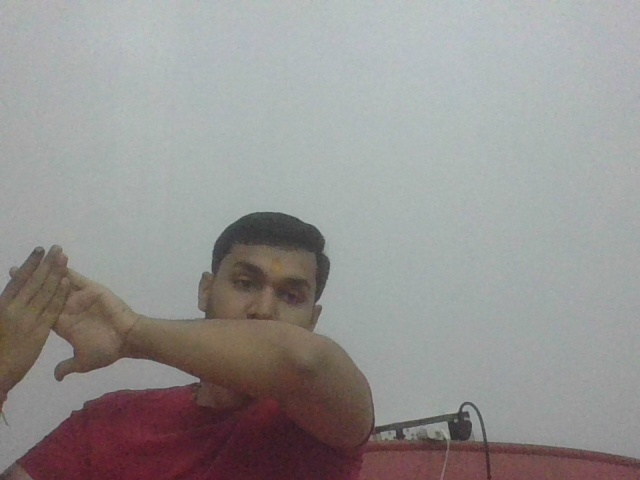H: (1, 247, 132, 384)
